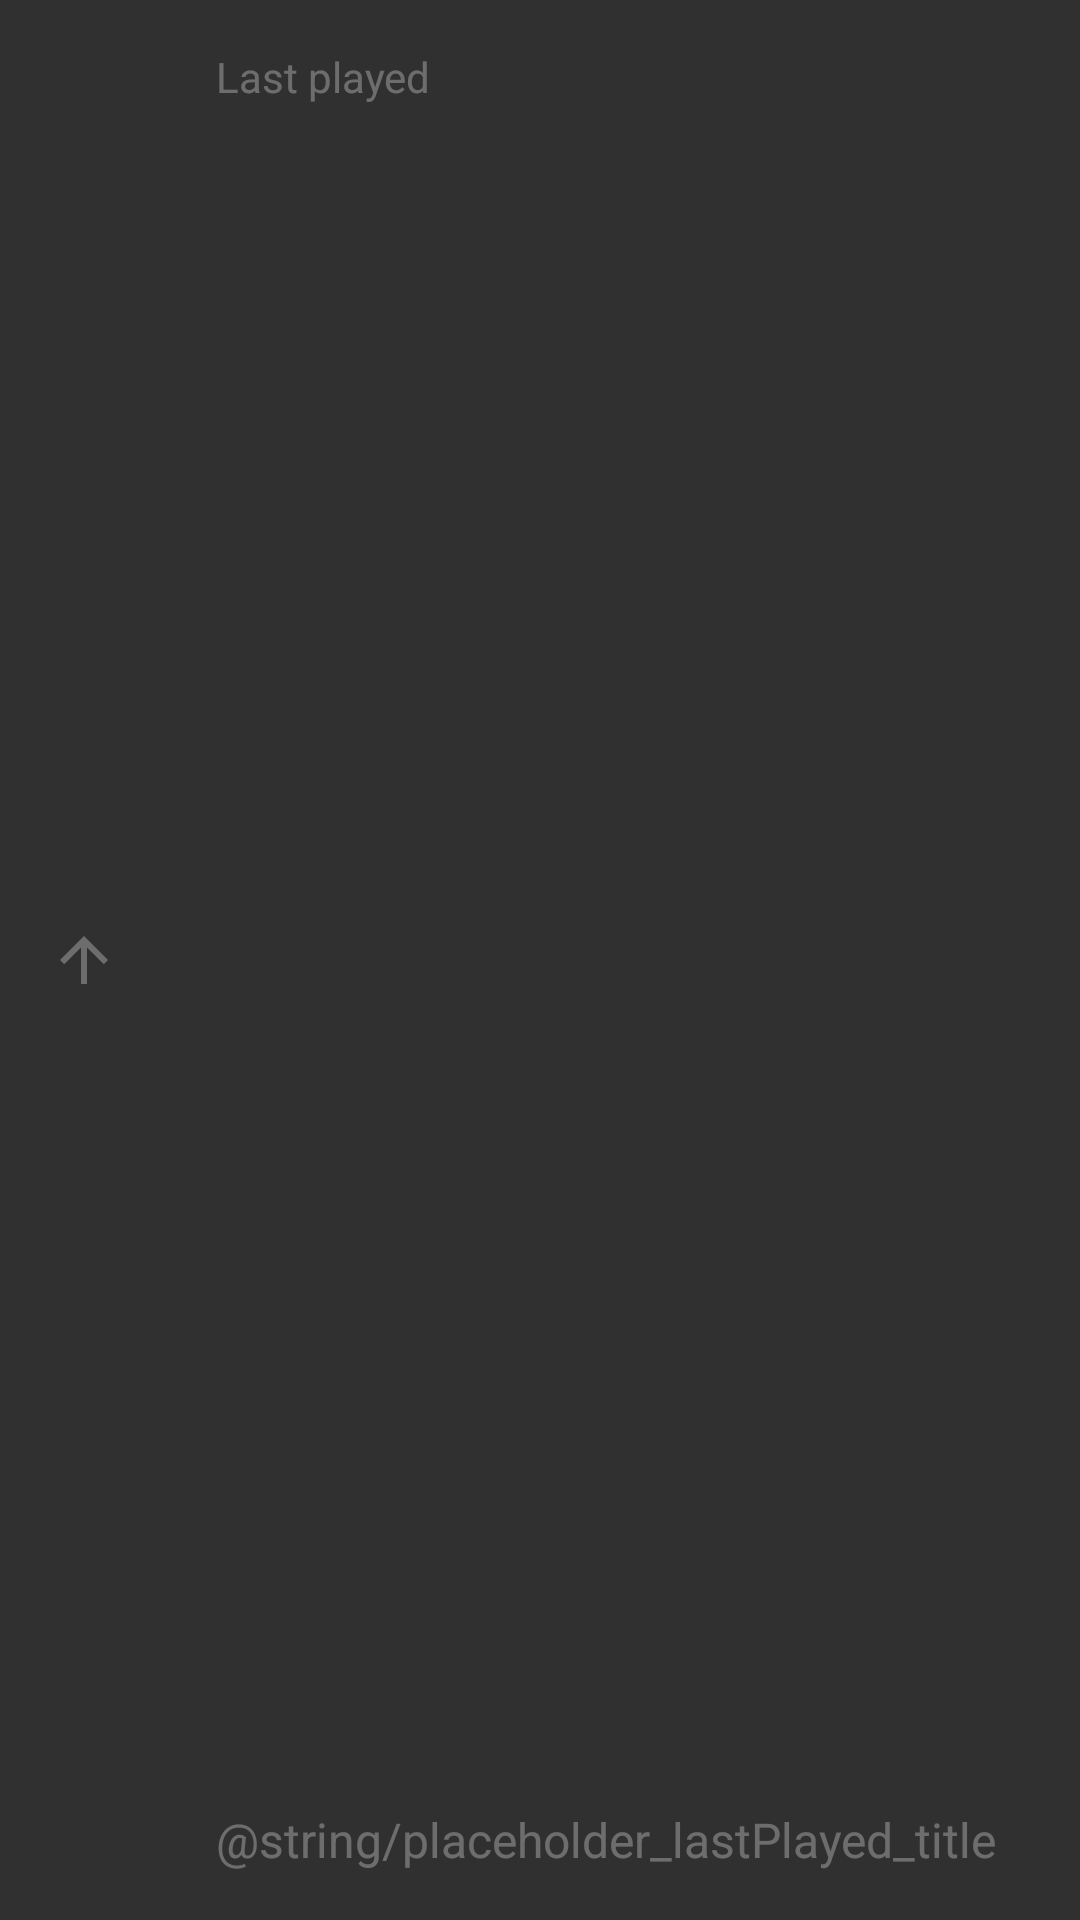

Icon click points for this 1080px×1920px phone screenshot, format (x,y):
arrow up: (84,960)
